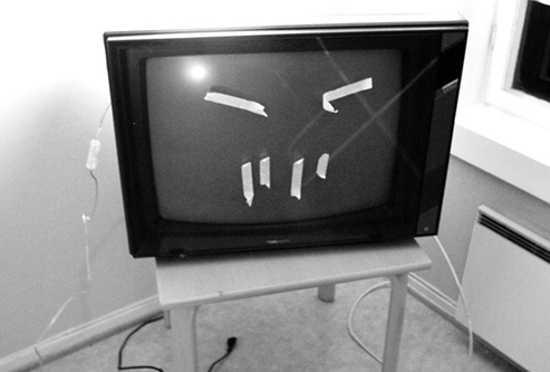TV: (103, 23, 465, 258)
